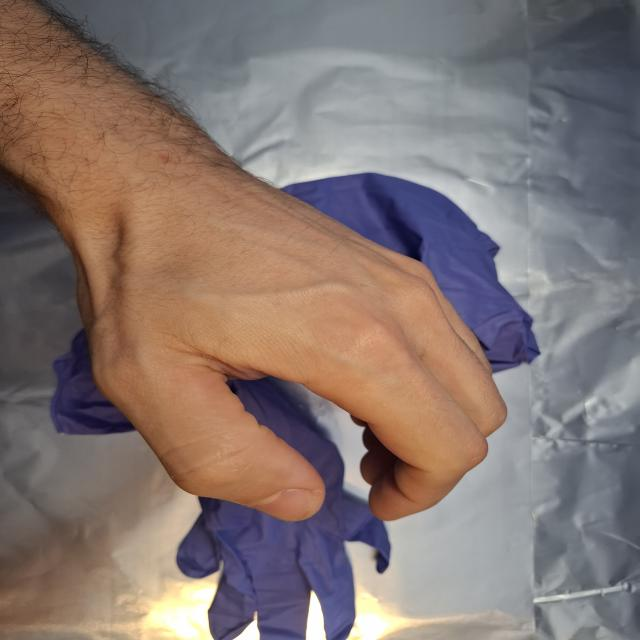glove_off: (75, 142, 509, 524)
